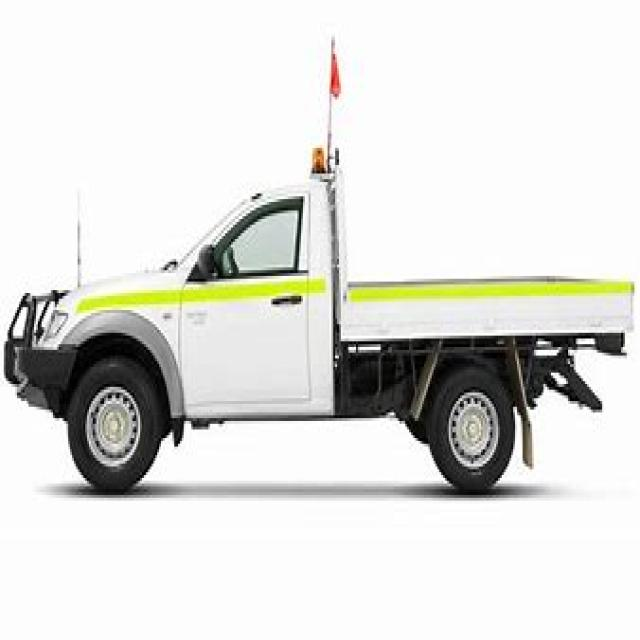light_vehicle: (4, 154, 638, 501)
